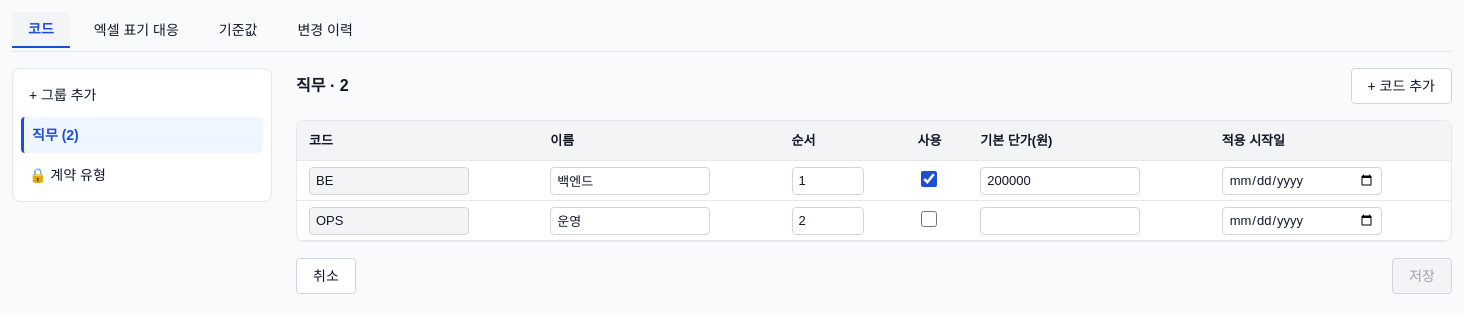
Test: SYSTEM은 이름/순서만 편집하며 추가와 사용 전환을 막는다
Check: the field showing "백엔드" is shown, box [550,166,710,194]
Click the button "🔒 계약 유형": {"x": 142, "y": 175} [21,157,263,193]
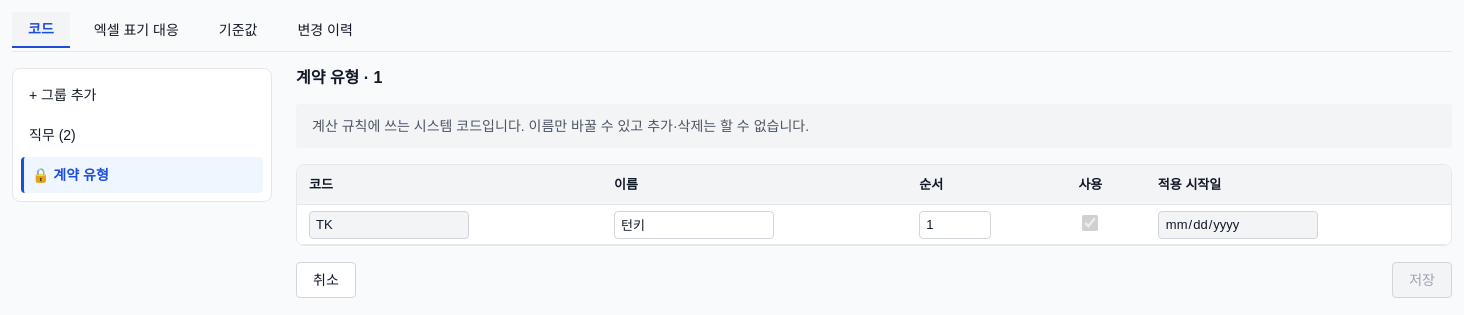
Check: the field showing "턴키" is shown, box [614,210,774,238]
Check: the text "계산 규칙에 쓰는 시스템 코드입니다. 이름만 바꿀 수 있고 추가·삭제는 할 수 없습니다." is shown, box [296,104,1452,148]
Check: the button "+ 코드 추가" is gone
